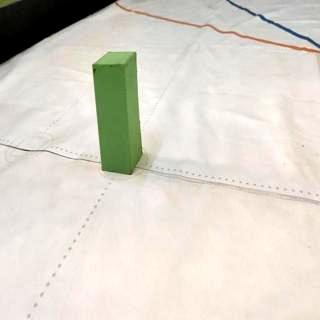greenbox: (94, 50, 144, 176)
